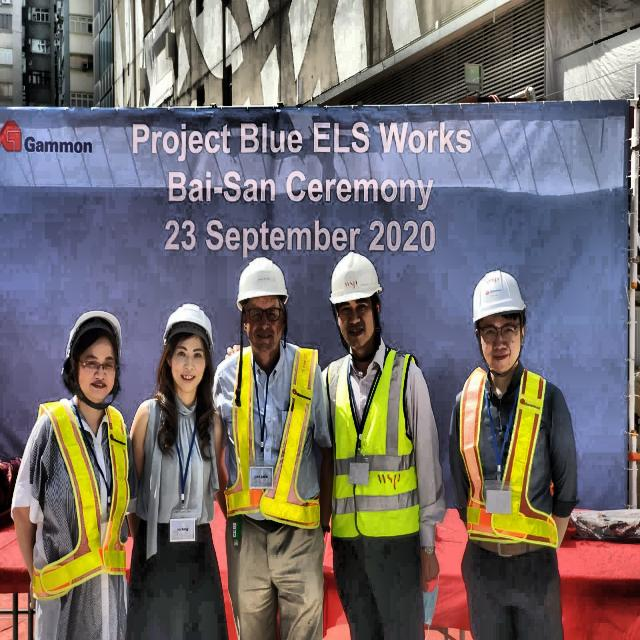safety_helmet: (60, 308, 124, 412), (159, 296, 218, 366), (469, 268, 528, 326), (327, 250, 384, 309), (234, 255, 290, 312)
safety_jacket: (23, 386, 134, 604), (220, 342, 324, 533), (456, 365, 560, 554), (328, 347, 422, 544)
